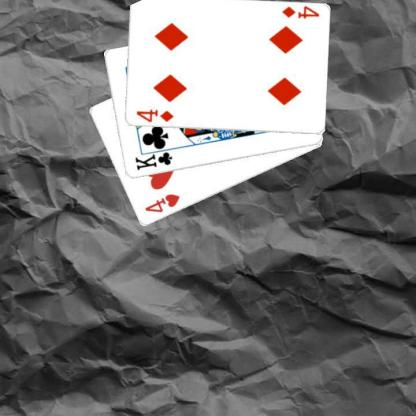4D: (134, 107, 174, 124), (279, 4, 320, 20)
4H: (142, 192, 181, 214)
KC: (132, 145, 176, 172)
